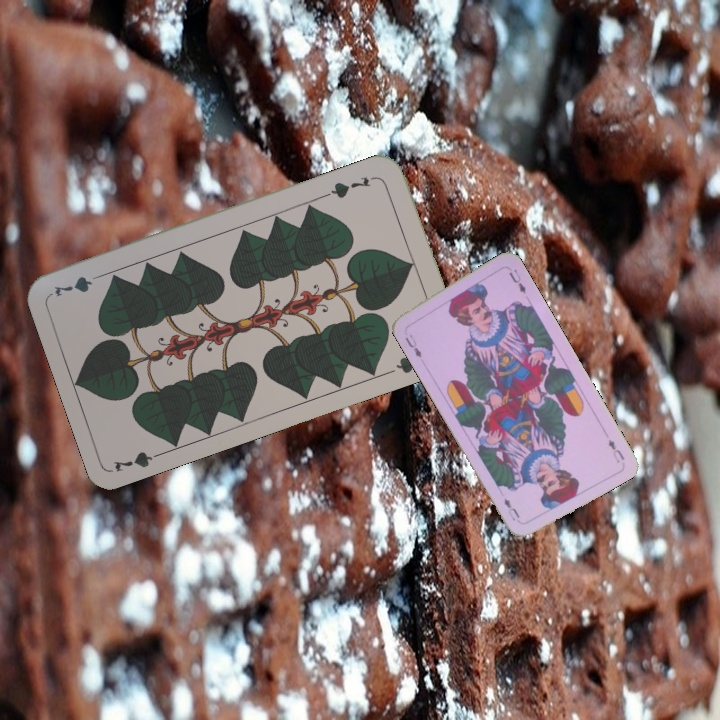EU: (401, 330, 424, 361), (604, 435, 627, 465)
G7: (322, 172, 380, 201), (109, 447, 169, 475)
